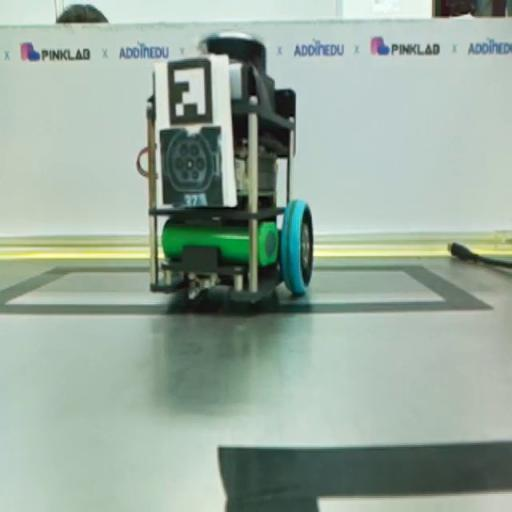pinky_63: (142, 31, 314, 302)
